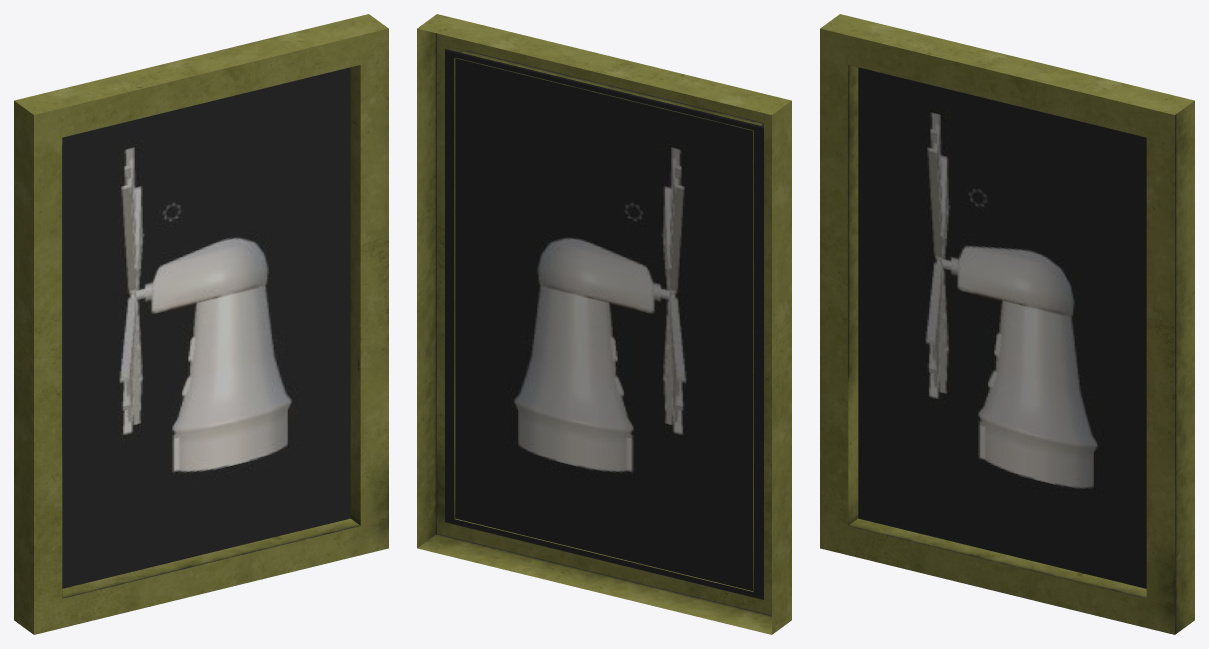
The model's file is Cuadro7.fbx.
The picture shows the model from 3 angles, left to right: view 1: azimuth 30°, elevation 25°; view 2: azimuth 150°, elevation 25°; view 3: azimuth 330°, elevation 25°; orthographic projection.
Parts seen in each view (by area): view 1: Plane, marco; view 2: Plane, marco; view 3: Plane, marco.
Part boxes in pixels (<box>): Plane: <box>62,67,350,588</box>; marco: <box>14,14,388,634</box>; Plane: <box>445,49,763,599</box>; marco: <box>417,14,791,634</box>; Plane: <box>858,67,1146,588</box>; marco: <box>820,14,1194,634</box>.
Size of the model in its own units: 80 by 112 by 7.79.
